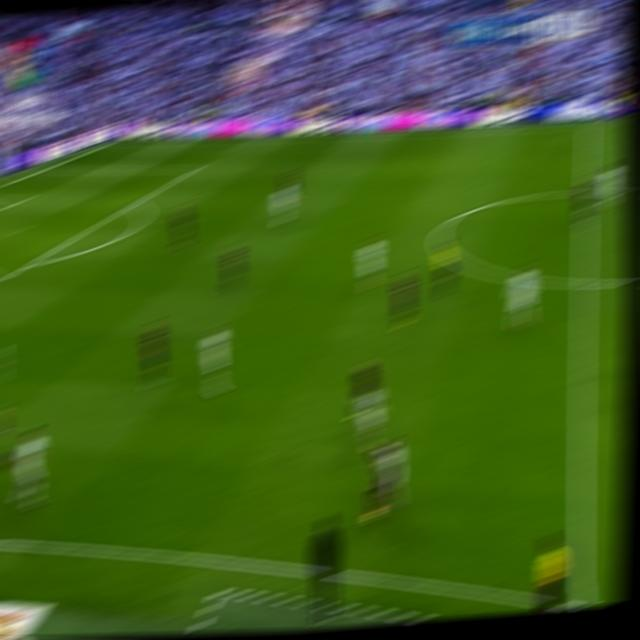halfcircle_bottom: (573, 270, 595, 296)
midline_bottom_intersection: (568, 588, 595, 607)
midline_top_intersection: (580, 120, 596, 130)
top_arc_area_intersection: (126, 197, 142, 210)
